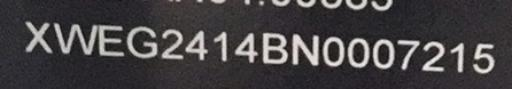letter: (51, 19, 99, 58), (125, 25, 159, 60), (96, 21, 126, 60), (23, 18, 55, 53), (261, 30, 291, 65), (289, 33, 319, 68), (232, 30, 260, 65), (184, 27, 210, 62), (345, 35, 371, 70), (470, 41, 496, 76), (160, 27, 186, 60), (396, 38, 422, 71), (420, 39, 446, 72), (322, 35, 346, 68), (372, 37, 396, 70), (212, 29, 232, 64), (448, 42, 466, 75)
